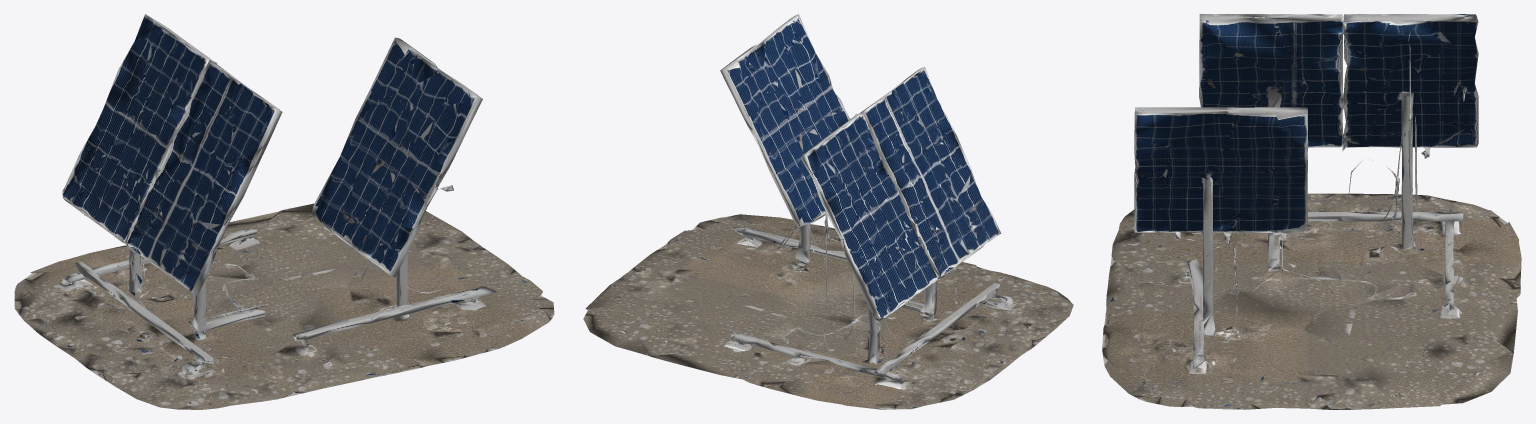
Rendered from solar-array-lite.glb.
3 views of the same model, side by side, from view 1: azimuth 30°, elevation 25°; view 2: azimuth 150°, elevation 25°; view 3: azimuth 270°, elevation 25° (orthographic). The views are drawn at different scales.
Bounding box in the file's own units: 1.9 × 1.07 × 1.56.
1 material, 1 textured.
